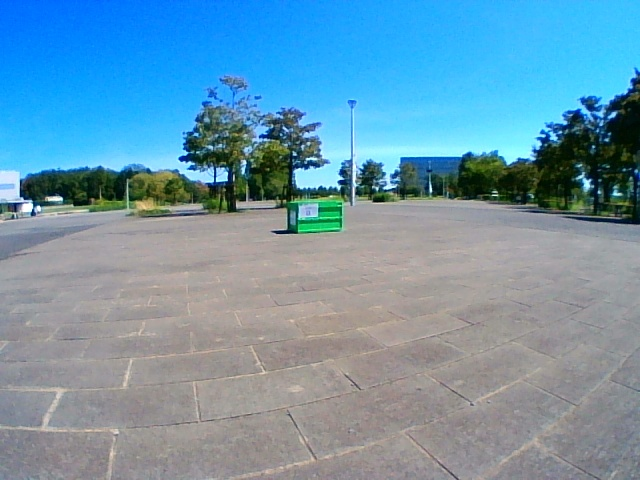green_box: (287, 201, 341, 231)
tag: (298, 205, 317, 218)
